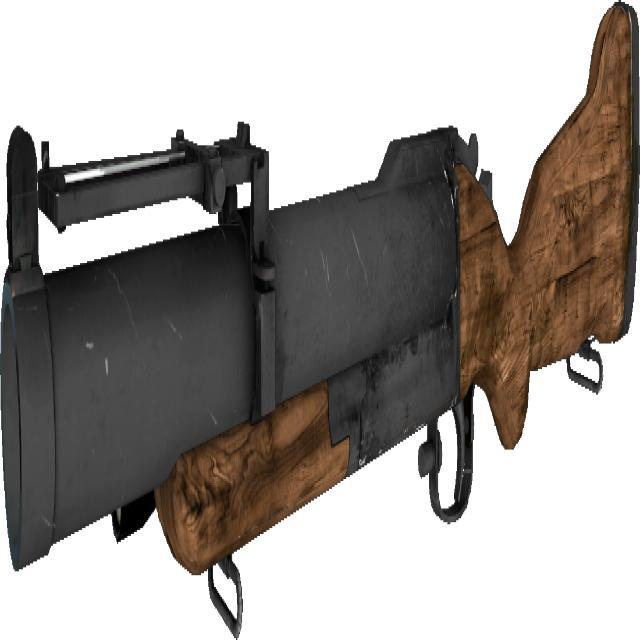rocket launcher: (1, 4, 640, 629)
